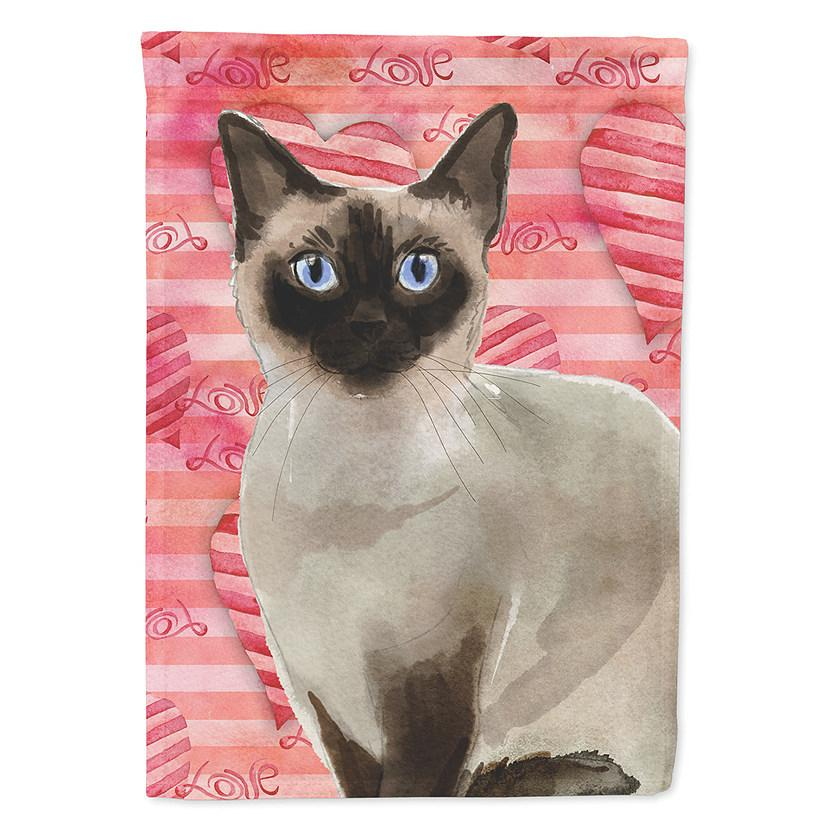siamese: (210, 92, 529, 415)
